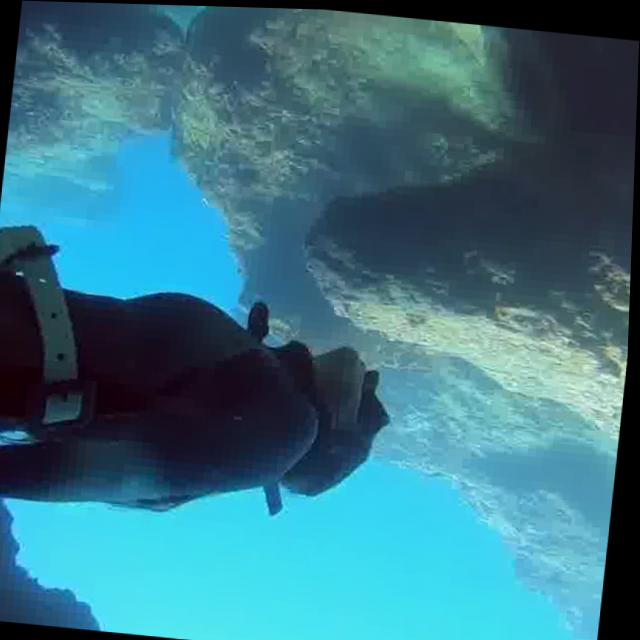human: (0, 215, 429, 576)
